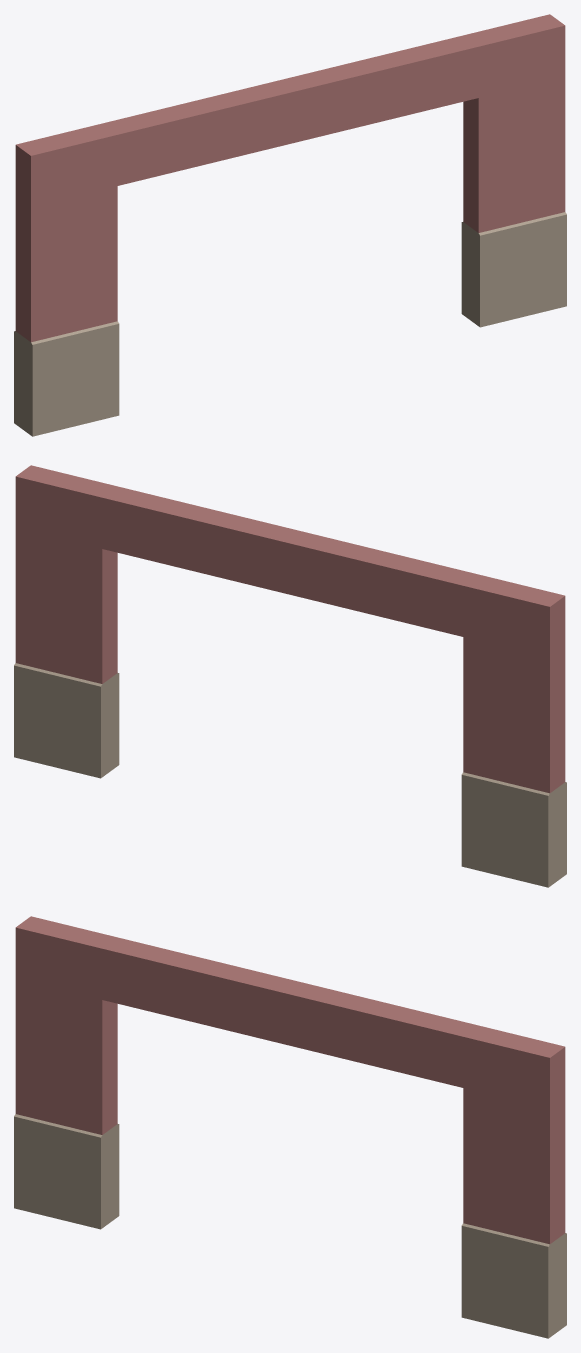
Rendered from wall_6x_base_door.fbx.
The picture shows the model from 3 angles, top to bottom: view 1: azimuth 30°, elevation 25°; view 2: azimuth 150°, elevation 25°; view 3: azimuth 330°, elevation 25°; orthographic projection.
Visible parts, largest first — view 1: Cube; view 2: Cube; view 3: Cube.
Boxes of the visible parts, bbox=[...] form: Cube: bbox=[14, 14, 566, 436]; Cube: bbox=[14, 465, 566, 887]; Cube: bbox=[14, 916, 566, 1338].
Size of the model in its own units: 800 by 400 by 48.
